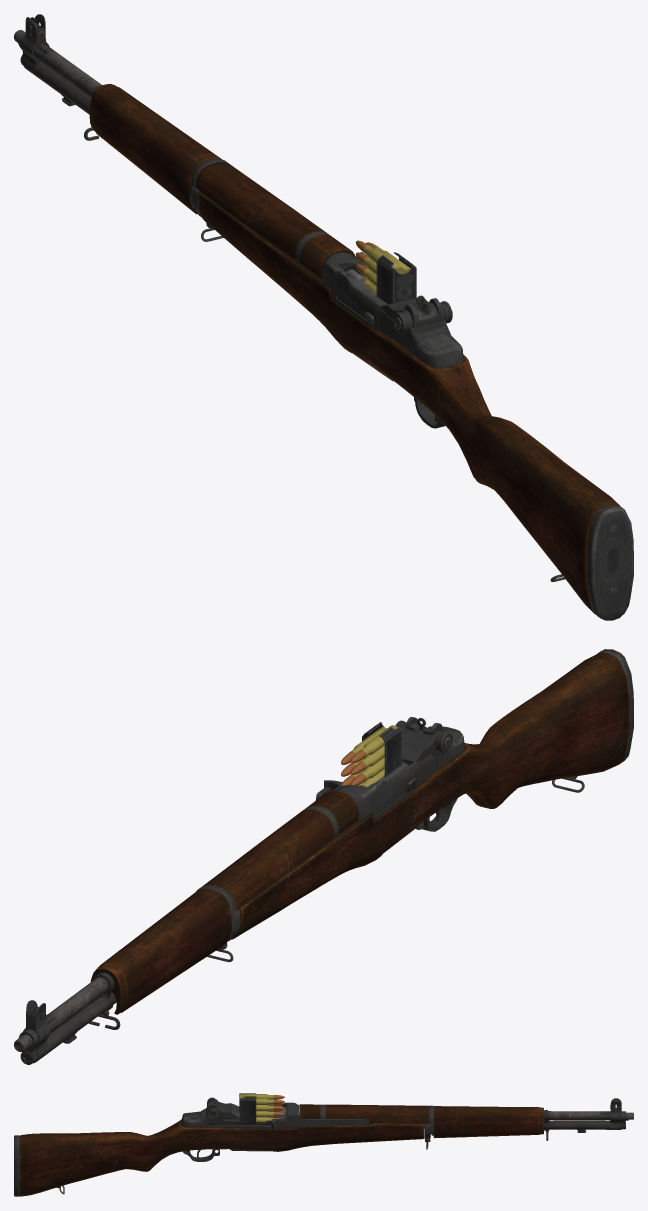
File: weapon_garand.glb
3 renders of one model, top to bottom at view 1: azimuth 30°, elevation 25°; view 2: azimuth 150°, elevation 25°; view 3: azimuth 270°, elevation 25°, orthographic. The views are drawn at different scales.
Visible parts, largest first — view 1: Receiver, Mag; view 2: Receiver, Mag; view 3: Receiver, Mag.
Part boxes in pixels (x1,y1,x2,y2): Receiver: (14, 14, 633, 620); Mag: (355, 240, 416, 304); Receiver: (14, 649, 633, 1064); Mag: (341, 722, 401, 786); Receiver: (14, 1097, 633, 1196); Mag: (239, 1093, 284, 1123).
Bounding box in the file's own units: 0.0643 × 0.186 × 1.02.
2 materials, 2 textured.
